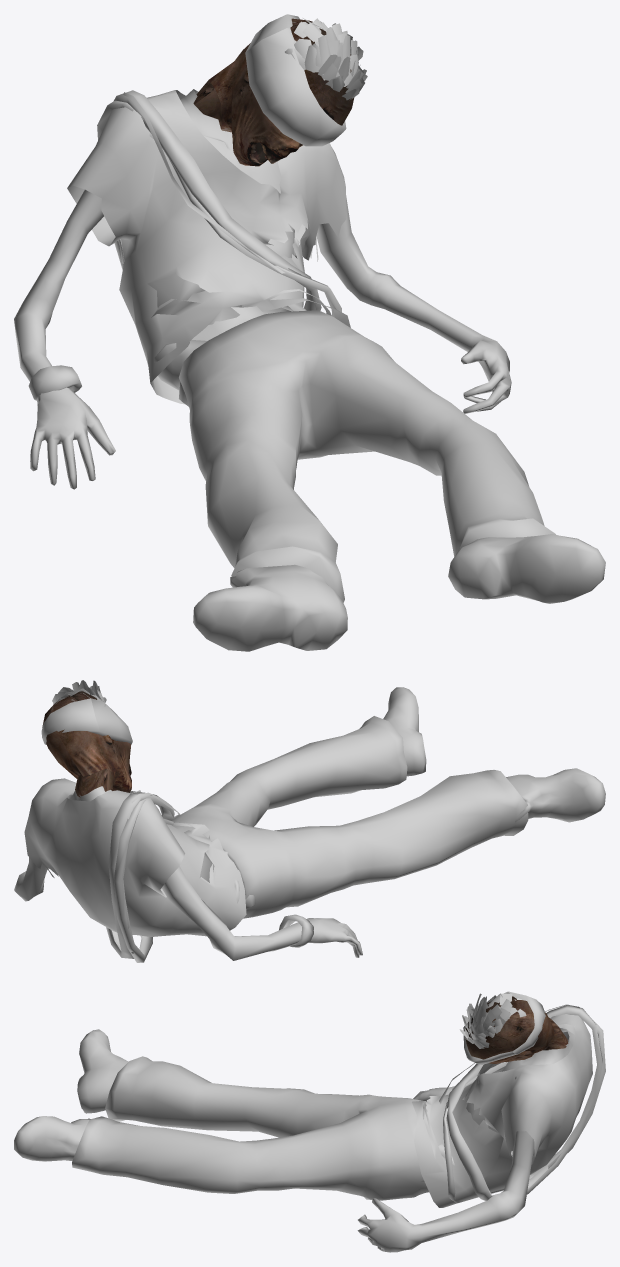
The model's file is Corpse.obj.
3 views of the same model, one above another, from view 1: azimuth 30°, elevation 25°; view 2: azimuth 150°, elevation 25°; view 3: azimuth 270°, elevation 25° (orthographic). The views are drawn at different scales.
Size of the model in its own units: 2.21 by 1.34 by 3.13.
